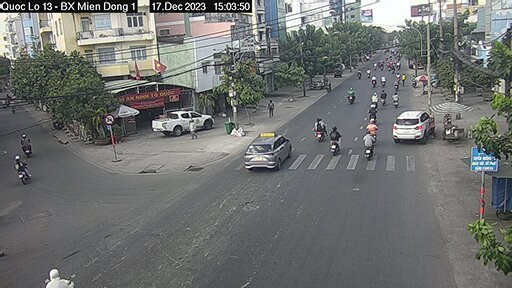car: (243, 130, 290, 188), (145, 109, 222, 132), (393, 100, 423, 141)
motorbike: (323, 125, 345, 152), (315, 114, 331, 140), (364, 129, 374, 155)
